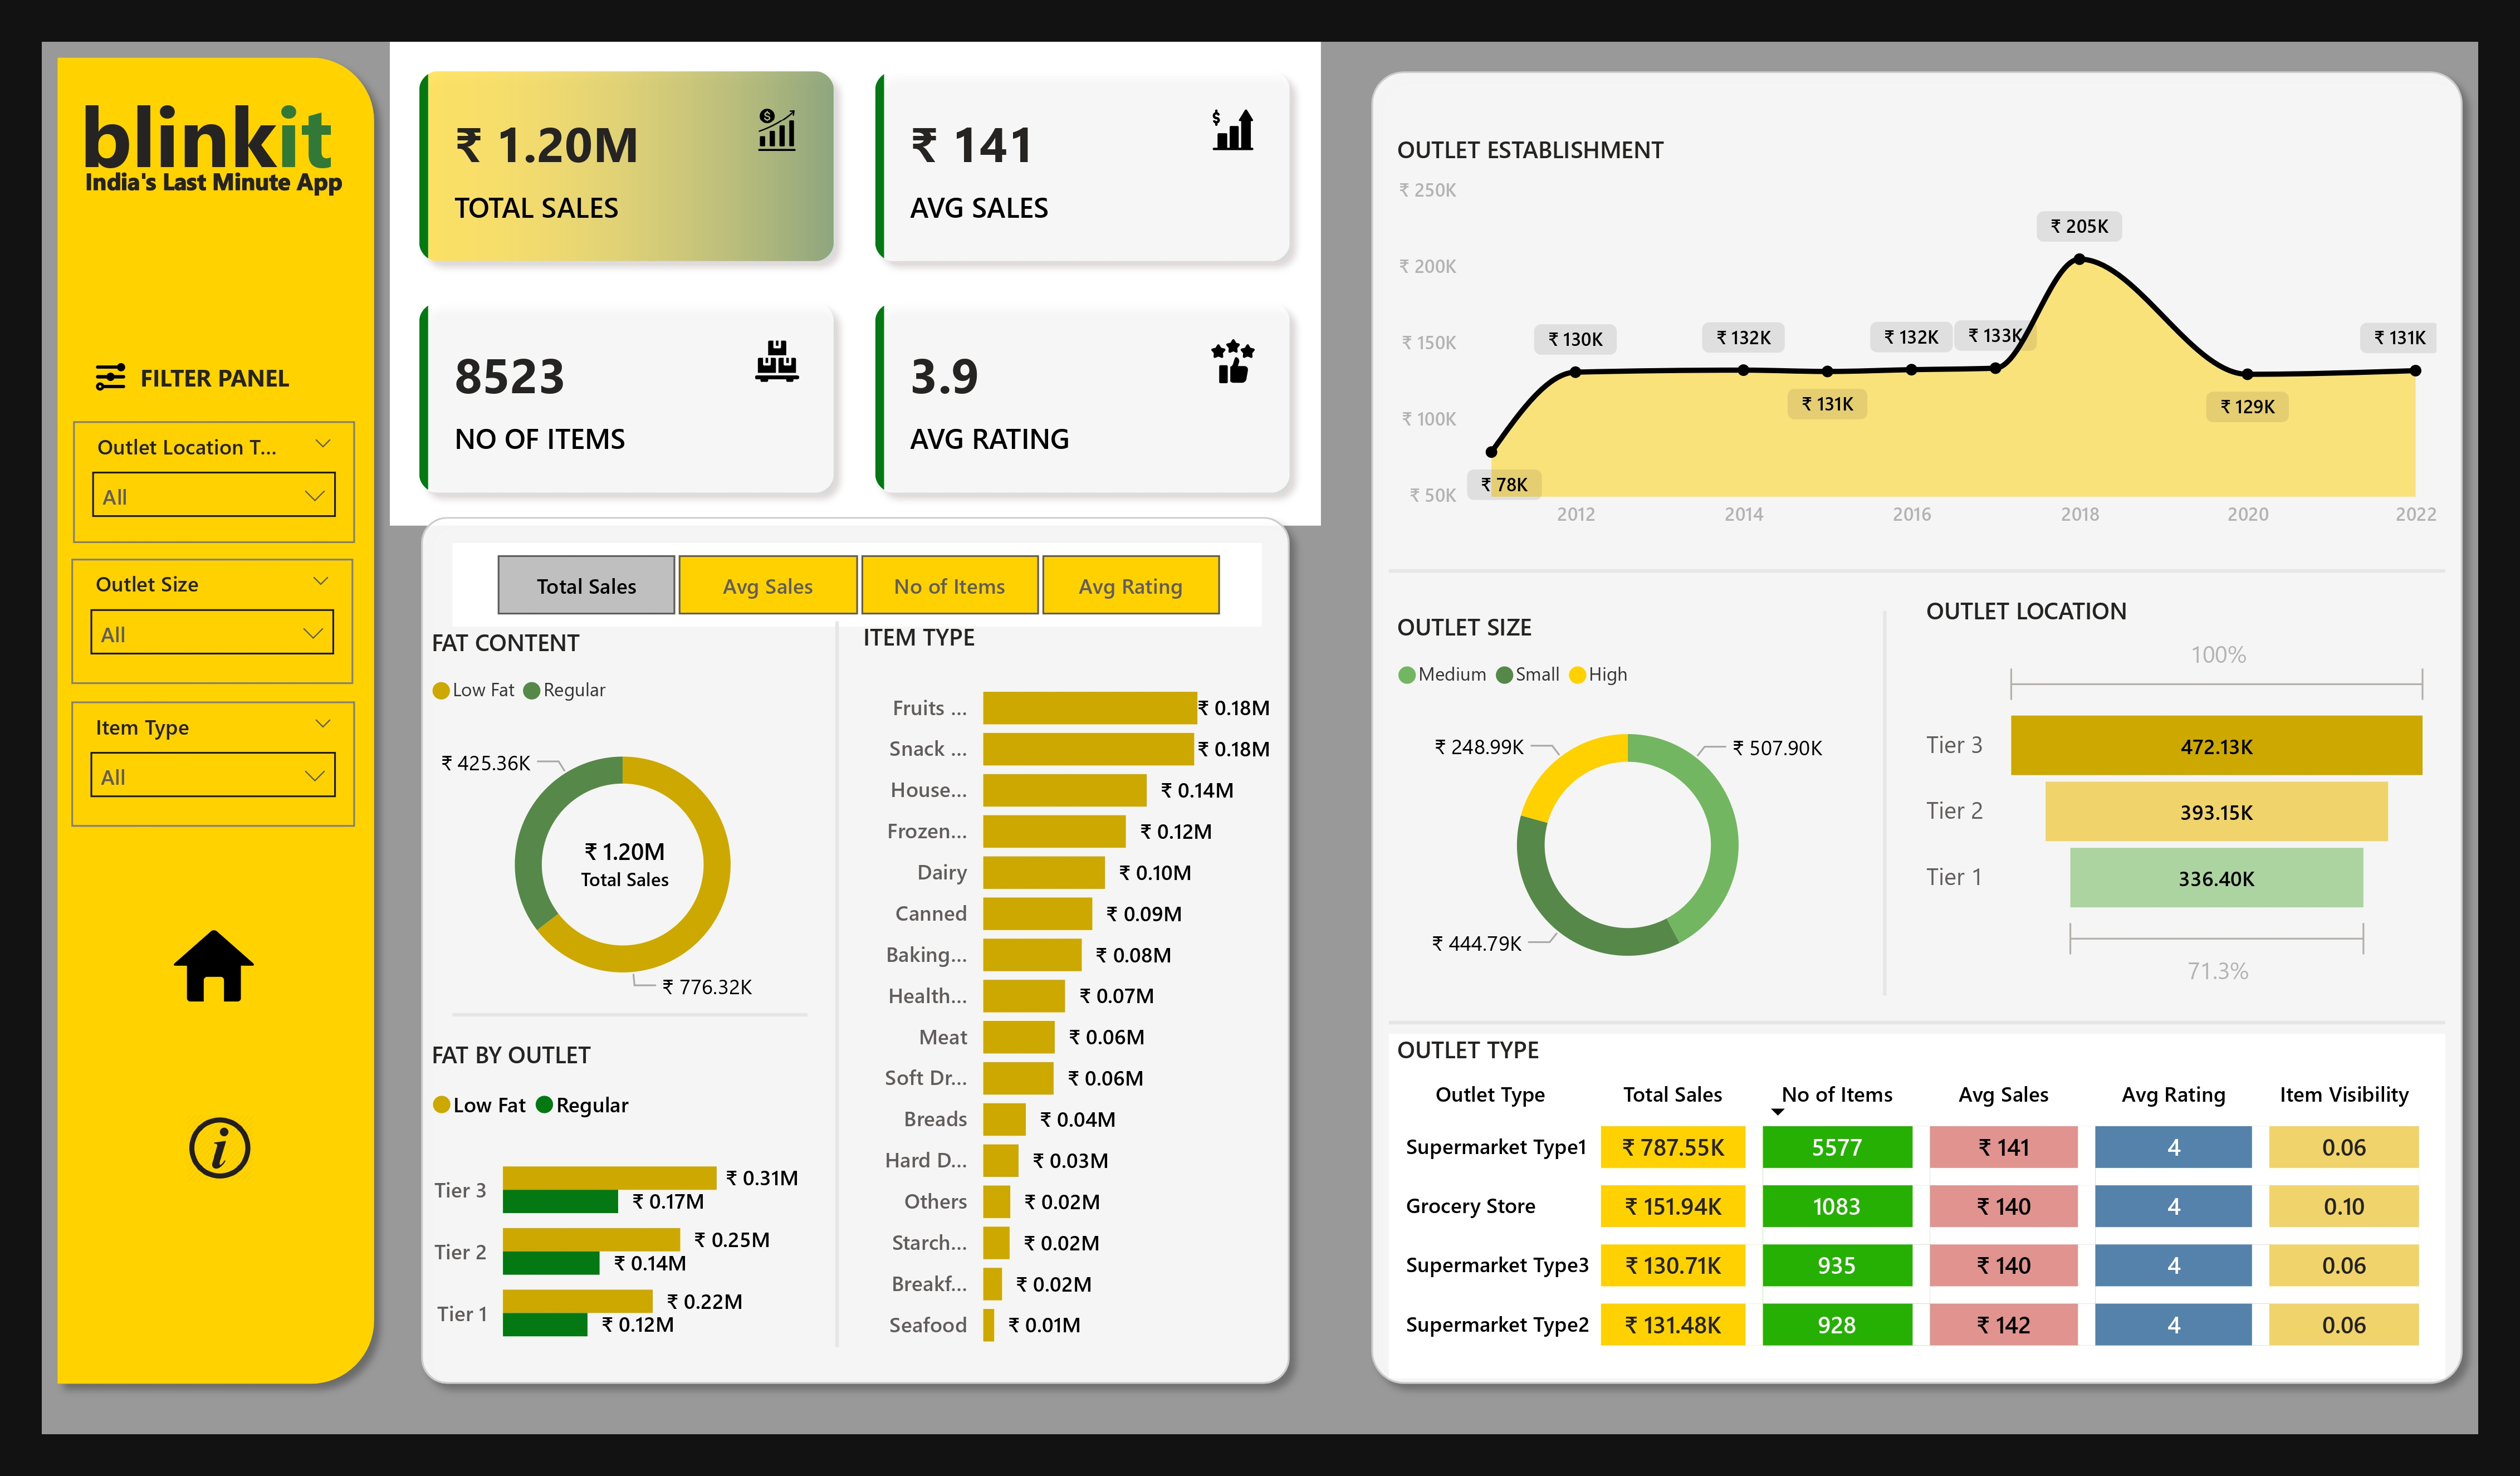

Layout of this report page (visuals, bound fields, positions):
{"tool":"powerbi","page":{"name":"Page 1","canvas":[1400,800],"ordinal":0},"visuals":[{"type":"shape","box":[0,0,199.6,780.4],"z":0},{"type":"textbox","box":[16.5,15,174.1,100.6],"z":1000},{"type":"textbox","box":[19.5,66,171.1,42],"z":2000},{"type":"cardVisual","fields":{"Data":["BlinkIT Grocery Data.Total Sales","BlinkIT Grocery Data.Avg Sales","BlinkIT Grocery Data.No of Items","BlinkIT Grocery Data.Avg Rating"]},"box":[199.6,0,535.8,277.7],"z":3000},{"type":"shape","box":[208.6,264.2,517.8,516.3],"z":4000},{"type":"donutChart","title":"FAT CONTENT","fields":{"Y":["BlinkIT Grocery Data.Total Sales"],"Category":["BlinkIT Grocery Data.Item Fat Content"]},"box":[219.1,336.2,229.6,229.6],"z":5000},{"type":"slicer","fields":{"Values":["Metrics.Metrics"]},"box":[235.6,288.2,465.3,48],"z":6000},{"type":"cardVisual","fields":{"Data":["BlinkIT Grocery Data.Total Sales"]},"box":[285.2,438.3,100.6,60],"z":7000},{"type":"clusteredBarChart","title":"FAT BY OUTLET","fields":{"Y":["BlinkIT Grocery Data.Total Sales"],"Category":["BlinkIT Grocery Data.Outlet Location Type"],"Series":["BlinkIT Grocery Data.Item Fat Content"]},"box":[219.1,573.3,220.6,190.6],"z":8000},{"type":"shape","box":[235.6,552.3,204.1,13.5],"z":9000},{"type":"shape","box":[414.2,333.2,85.5,417.2],"z":10000},{"type":"barChart","title":"ITEM TYPE","fields":{"Y":["BlinkIT Grocery Data.Total Sales"],"Category":["BlinkIT Grocery Data.Item Type"]},"box":[466.8,333.2,244.6,427.7],"z":11000},{"type":"shape","box":[754.9,7.5,645.4,772.9],"z":12000},{"type":"lineChart","title":"OUTLET ESTABLISHMENT","fields":{"Y":["BlinkIT Grocery Data.Total Sales"],"Category":["BlinkIT Grocery Data.Outlet Establishment Year"]},"box":[774.4,52.5,606.3,235.6],"z":13000},{"type":"shape","box":[774.4,288.2,606.3,31.5],"z":14000},{"type":"donutChart","title":"OUTLET SIZE","fields":{"Category":["BlinkIT Grocery Data.Outlet Size"],"Y":["BlinkIT Grocery Data.Total Sales"]},"box":[774.4,327.2,274.7,225.1],"z":15000},{"type":"shape","box":[1016.1,327.2,85.5,220.6],"z":16000},{"type":"funnel","title":"OUTLET LOCATION","fields":{"Y":["Sum(BlinkIT Grocery Data.Sales)"],"Category":["BlinkIT Grocery Data.Outlet Location Type"]},"box":[1077.6,318.2,300.2,229.6],"z":17000},{"type":"shape","box":[774.4,547.8,606.3,31.5],"z":18000},{"type":"pivotTable","title":"OUTLET TYPE","fields":{"Rows":["BlinkIT Grocery Data.Outlet Type"],"Values":["BlinkIT Grocery Data.Total Sales","BlinkIT Grocery Data.No of Items","BlinkIT Grocery Data.Avg Sales","BlinkIT Grocery Data.Avg Rating","Avg(BlinkIT Grocery Data.Item Visibility)"]},"box":[774.4,570.3,606.3,198.1],"z":19000},{"type":"slicer","fields":{"Values":["BlinkIT Grocery Data.Outlet Location Type"]},"box":[18,217.6,162.1,70.5],"z":20000},{"type":"slicer","fields":{"Values":["BlinkIT Grocery Data.Outlet Size"]},"box":[17.5,297.2,161.4,71.3],"z":21000},{"type":"slicer","fields":{"Values":["BlinkIT Grocery Data.Item Type"]},"box":[17.5,379.3,162.7,71.3],"z":22000},{"type":"textbox","box":[48,179,118,31],"z":23000},{"type":"image","box":[17,175,44,35],"z":24000},{"type":"image","box":[71,502,56,57],"z":25000},{"type":"image","box":[78,610,49,51],"z":26000}]}

Visuals, with their boxes in screenshot pixels (x1, y1, x2, y2):
shape: <box>42,42,389,1400</box>
textbox: <box>71,68,374,243</box>
textbox: <box>76,157,374,229</box>
cardVisual - BlinkIT Grocery Data.Total Sales x BlinkIT Grocery Data.Avg Sales: <box>389,42,1322,525</box>
shape: <box>405,502,1306,1400</box>
"FAT CONTENT" donutChart: <box>423,627,823,1027</box>
slicer - Metrics.Metrics: <box>452,544,1261,627</box>
cardVisual - BlinkIT Grocery Data.Total Sales: <box>538,805,713,909</box>
"FAT BY OUTLET" clusteredBarChart: <box>423,1040,807,1371</box>
shape: <box>452,1003,807,1027</box>
shape: <box>762,622,912,1348</box>
"ITEM TYPE" barChart: <box>854,622,1280,1366</box>
shape: <box>1356,55,2478,1400</box>
"OUTLET ESTABLISHMENT" lineChart: <box>1389,133,2445,543</box>
shape: <box>1389,544,2445,598</box>
"OUTLET SIZE" donutChart: <box>1389,612,1867,1003</box>
shape: <box>1810,612,1959,995</box>
"OUTLET LOCATION" funnel: <box>1917,595,2440,995</box>
shape: <box>1389,995,2445,1050</box>
"OUTLET TYPE" pivotTable: <box>1389,1034,2445,1379</box>
slicer - BlinkIT Grocery Data.Outlet Location Type: <box>73,421,355,543</box>
slicer - BlinkIT Grocery Data.Outlet Size: <box>72,559,353,683</box>
slicer - BlinkIT Grocery Data.Item Type: <box>72,702,355,826</box>
textbox: <box>125,353,331,407</box>
image: <box>71,346,148,407</box>
image: <box>165,916,263,1015</box>
image: <box>178,1103,263,1192</box>
